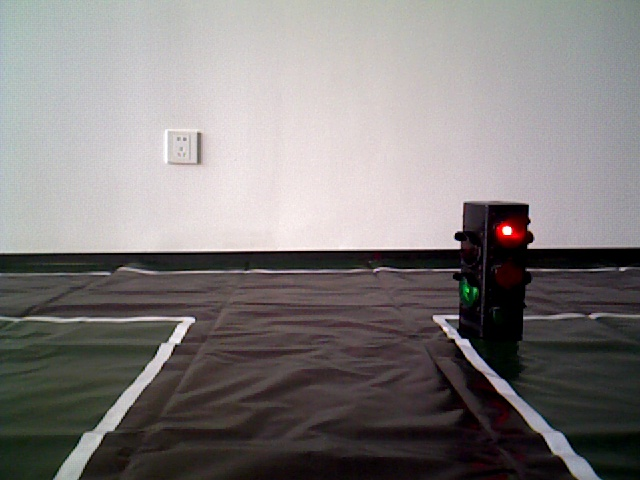red: (464, 201, 523, 347)
